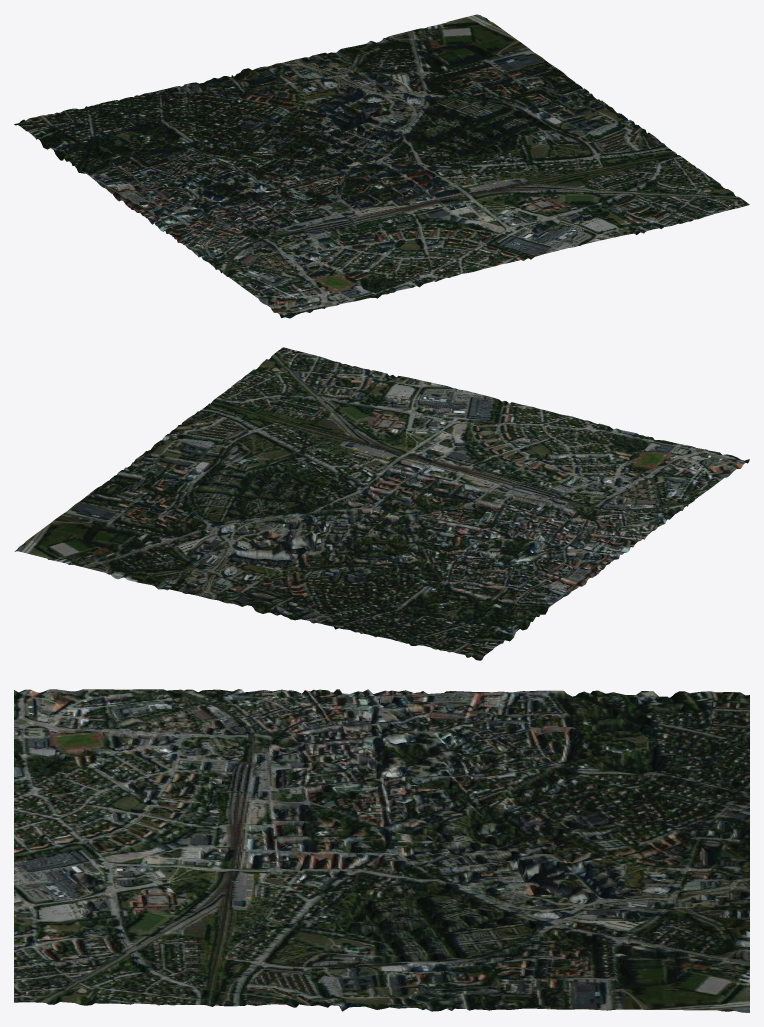
File: map_10_256_431.dae
The picture shows the model from 3 angles, top to bottom: view 1: azimuth 30°, elevation 25°; view 2: azimuth 150°, elevation 25°; view 3: azimuth 270°, elevation 25°; orthographic projection. The views are drawn at different scales.
Parts seen in each view (by area): view 1: Ter0; view 2: Ter0; view 3: Ter0.
Part boxes in pixels (<box>): Ter0: <box>14,14,749,318</box>; Ter0: <box>14,347,749,660</box>; Ter0: <box>14,689,749,1012</box>.
Bounding box in the file's own units: 2044 × 2044 × 75.95.
Materials: 2 (2 with a texture image).
